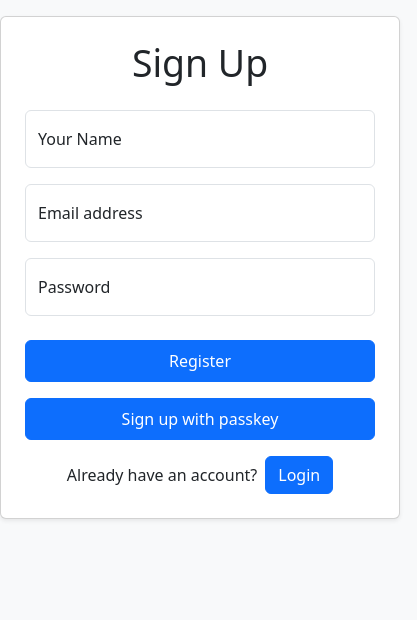
Test: SignUpPage › shows an error when passkey button is clicked with no email or name
Click the button "Sign up with passkey".
click(200, 419)  # box [25,398,375,440]
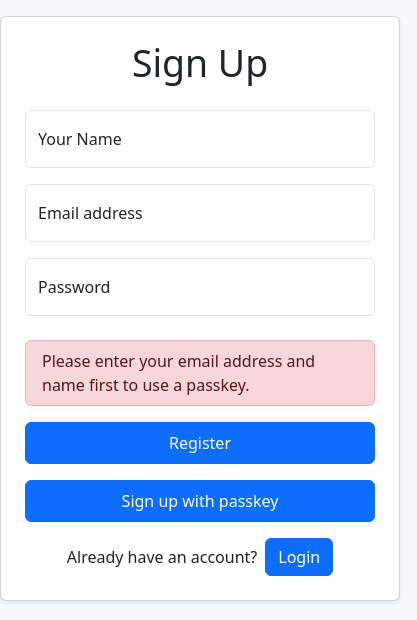
Now the message shows "Please enter your email address and name first", box [42,350,315,396]
